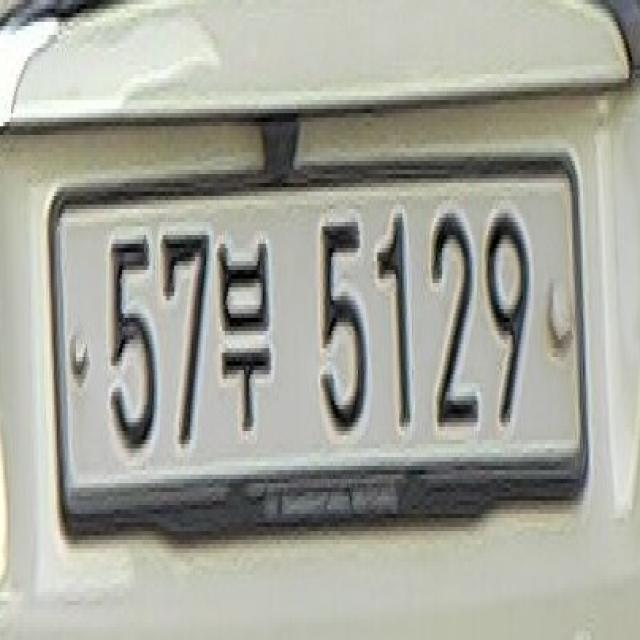1: (373, 201, 419, 439)
2: (424, 202, 481, 435)
5: (318, 204, 370, 446), (105, 226, 158, 456)
7: (160, 225, 212, 454)
9: (482, 200, 530, 434)
bu: (214, 226, 276, 442)
license_plate: (38, 135, 598, 578)
